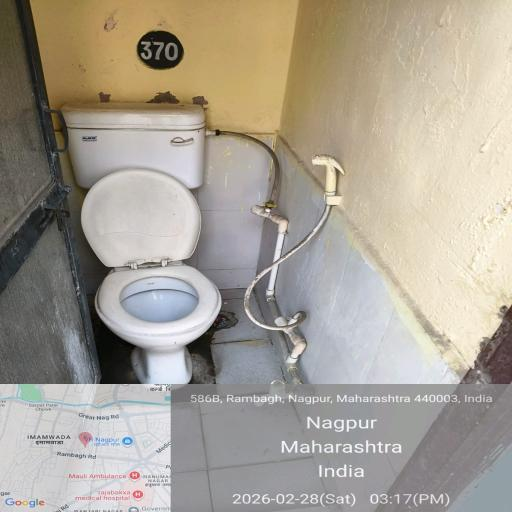clean_floor: (34, 0, 503, 119), (212, 126, 512, 276), (294, 294, 503, 382)
partial_dirty_floor: (0, 108, 74, 376), (212, 288, 295, 396)
partial_dirty_western: (86, 176, 226, 348)
